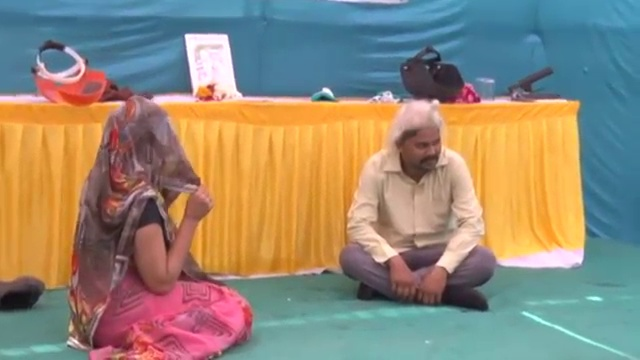helmet_off: (90, 97, 203, 189), (391, 104, 444, 173)
person: (64, 95, 257, 360), (335, 98, 501, 314)
